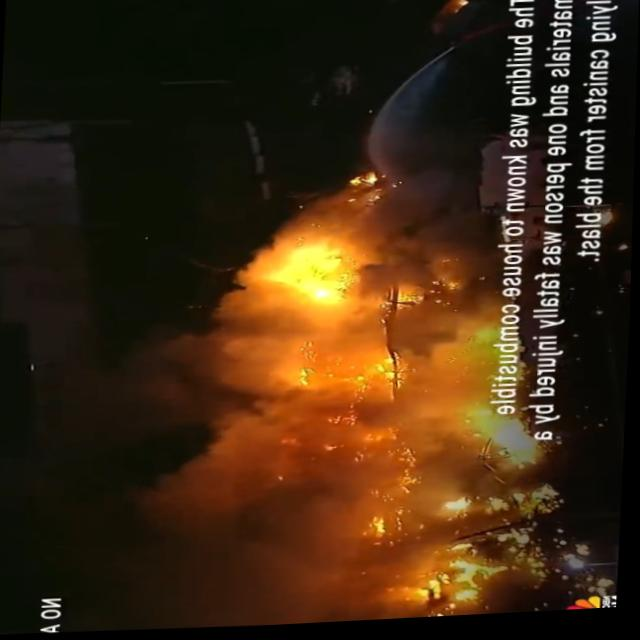Fire: (293, 348, 543, 504), (249, 251, 378, 343), (381, 537, 500, 624), (414, 274, 498, 350)
